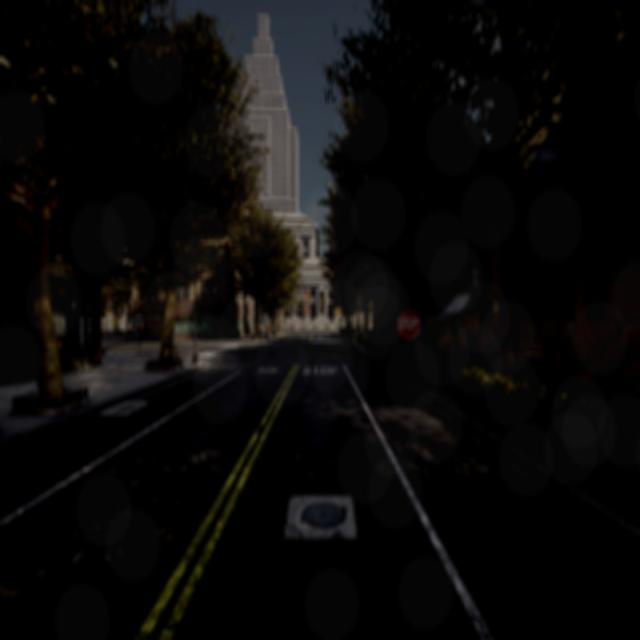stop sign: (394, 307, 422, 340)
